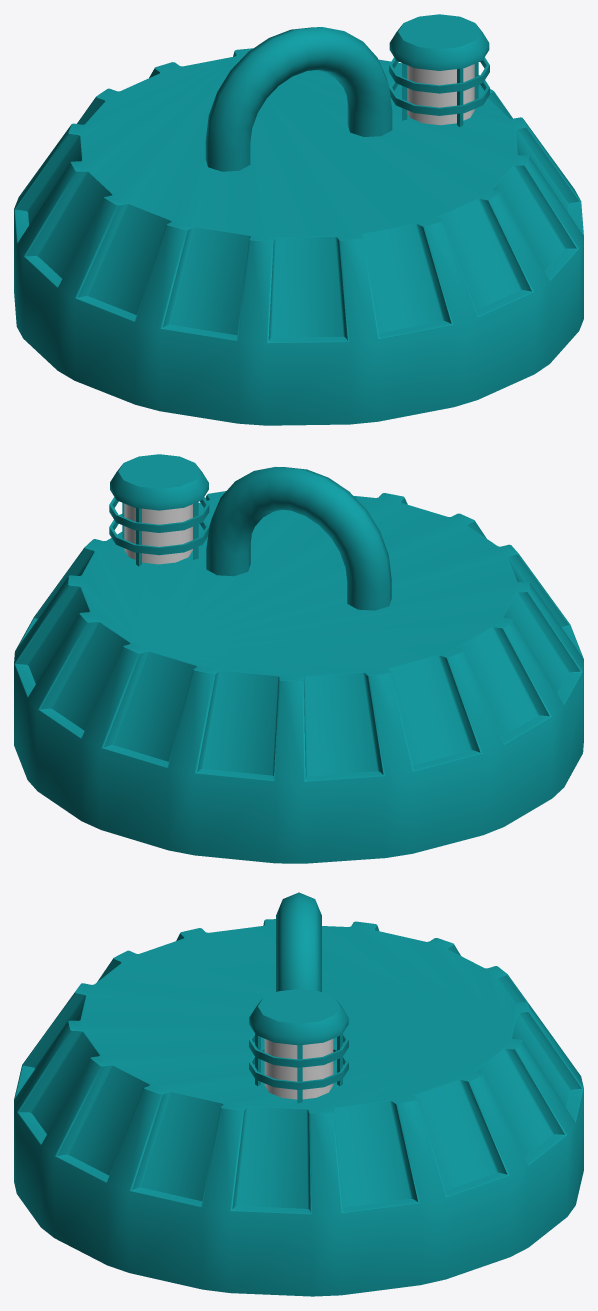
File: Magnet.fbx
The picture shows the model from 3 angles, top to bottom: view 1: azimuth 30°, elevation 25°; view 2: azimuth 150°, elevation 25°; view 3: azimuth 270°, elevation 25°; orthographic projection.
Parts seen in each view (by area): view 1: Magnet; view 2: Magnet; view 3: Magnet.
Boxes of the visible parts, x1=… form: Magnet: x1=14, y1=14, x2=583, y2=425; Magnet: x1=14, y1=454, x2=583, y2=863; Magnet: x1=14, y1=892, x2=583, y2=1296.
Size of the model in its own units: 0.4944 by 0.2626 by 0.4944.
